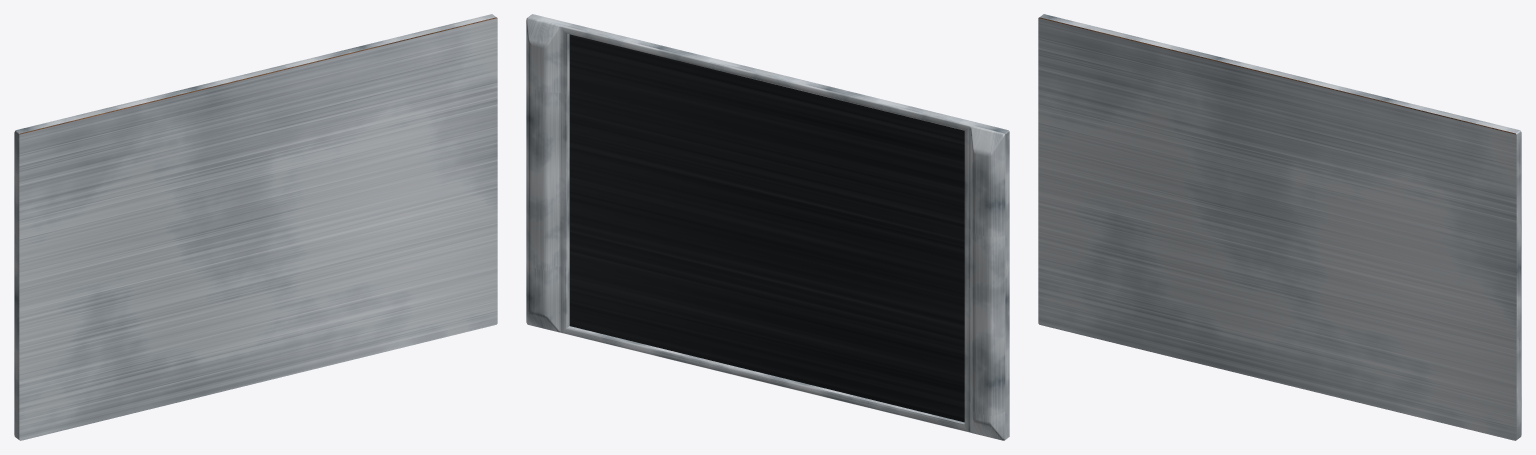
Rendered from timermesh2.fbx.
3 views of the same model, side by side, from view 1: azimuth 30°, elevation 25°; view 2: azimuth 150°, elevation 25°; view 3: azimuth 330°, elevation 25° (orthographic).
Parts seen in each view (by area): view 1: racetimermesh2; view 2: racetimermesh2; view 3: racetimermesh2.
Part boxes in pixels (x1,y1,x2,y2): racetimermesh2: (14,14,497,440); racetimermesh2: (526,14,1009,440); racetimermesh2: (1038,14,1521,440).
Size of the model in its own units: 0.1319 by 0.081 by 0.00522.
